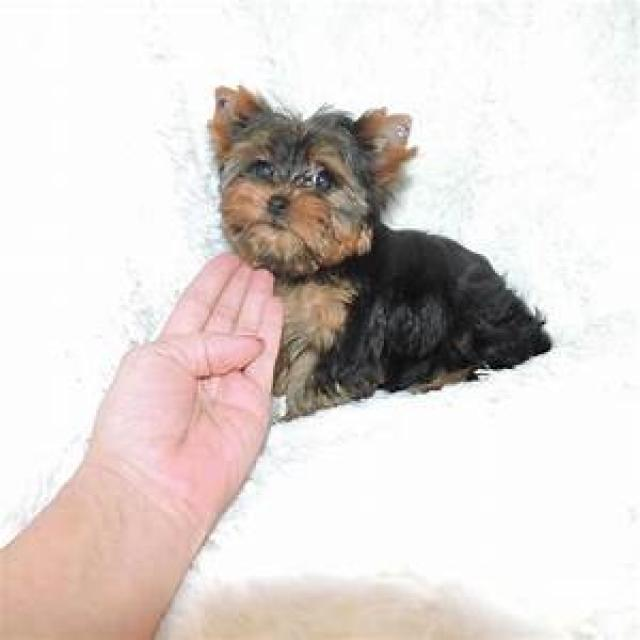dog: (210, 88, 551, 417)
